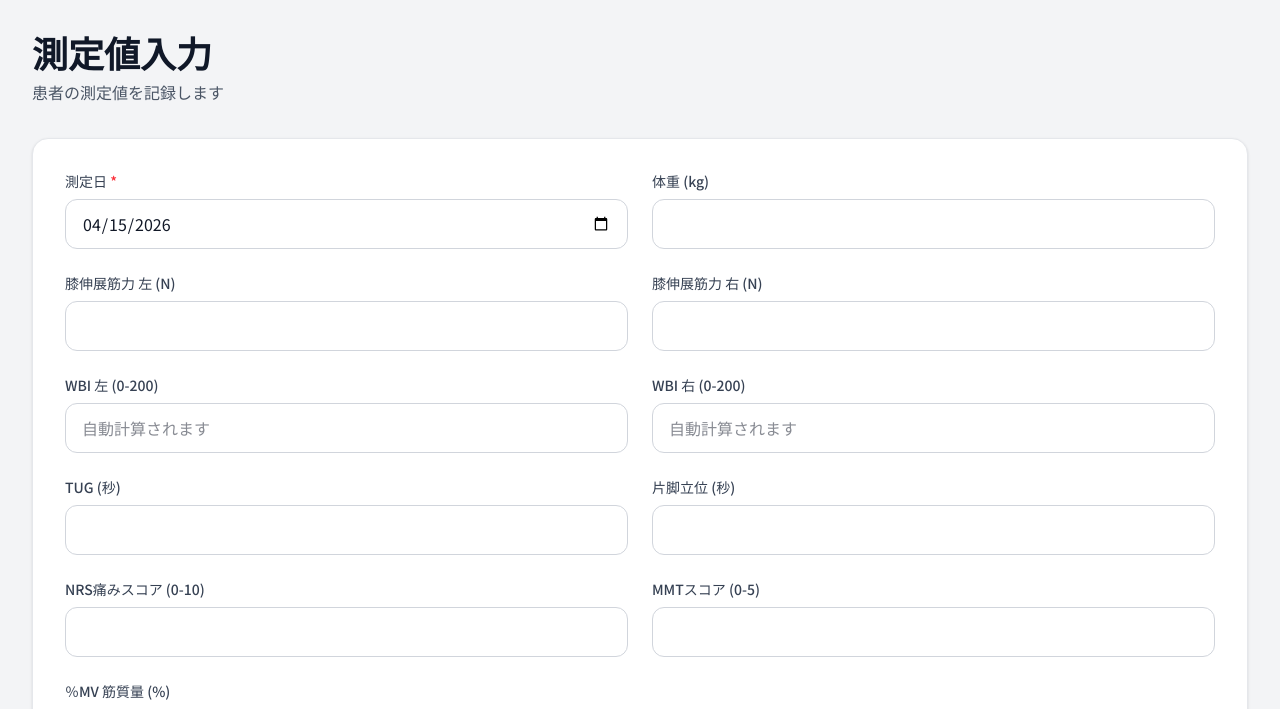
S-05 MeasurementInput › WBI auto-calculation › should validate WBI range (0-200)
This screenshot has width=1280, height=709.
Step 1. Type "250" into the number field labelled "WBI 左 (0-200)" → (346,428), box [65,403,628,453]
(page scrolled)
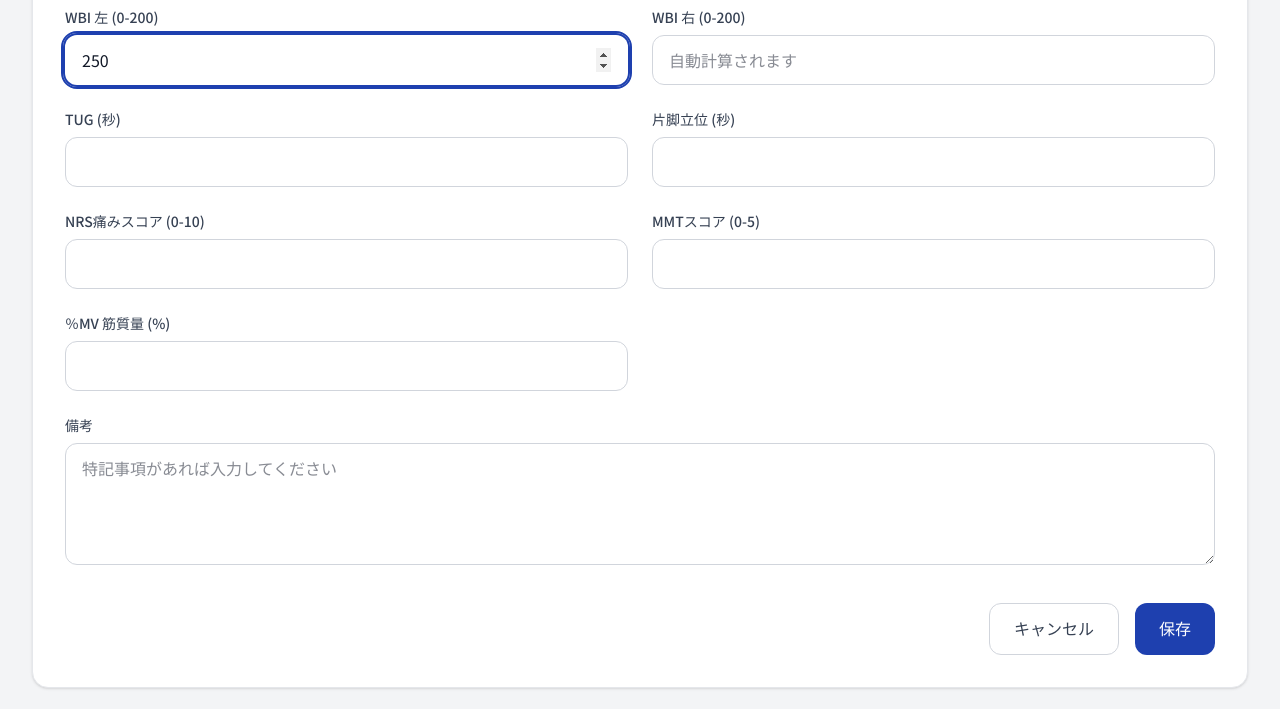
Step 2. Click the button "保存" → (1175,629), box [1135,603,1215,655]
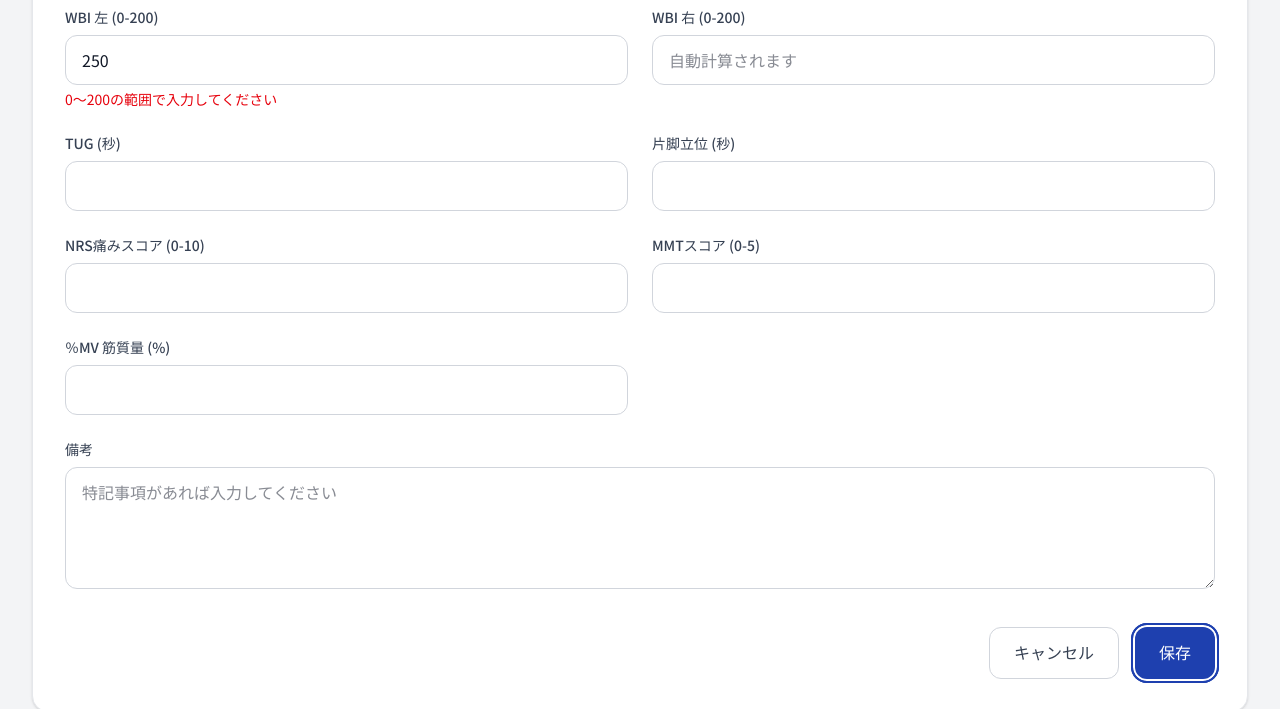
Expected: the text "0〜200の範囲で入力してください" is shown, [65,89,277,109]
